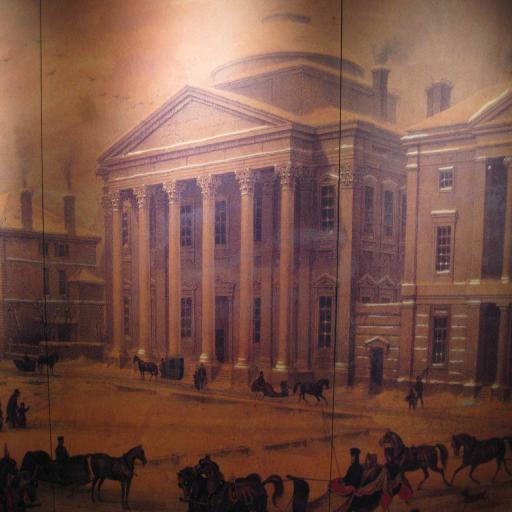horse: (192, 452, 285, 508), (376, 428, 450, 488), (82, 445, 146, 510), (177, 465, 262, 511), (451, 432, 511, 485), (17, 448, 91, 486), (0, 468, 39, 510), (292, 378, 330, 406), (132, 353, 158, 382), (0, 450, 19, 484), (36, 351, 59, 375)
